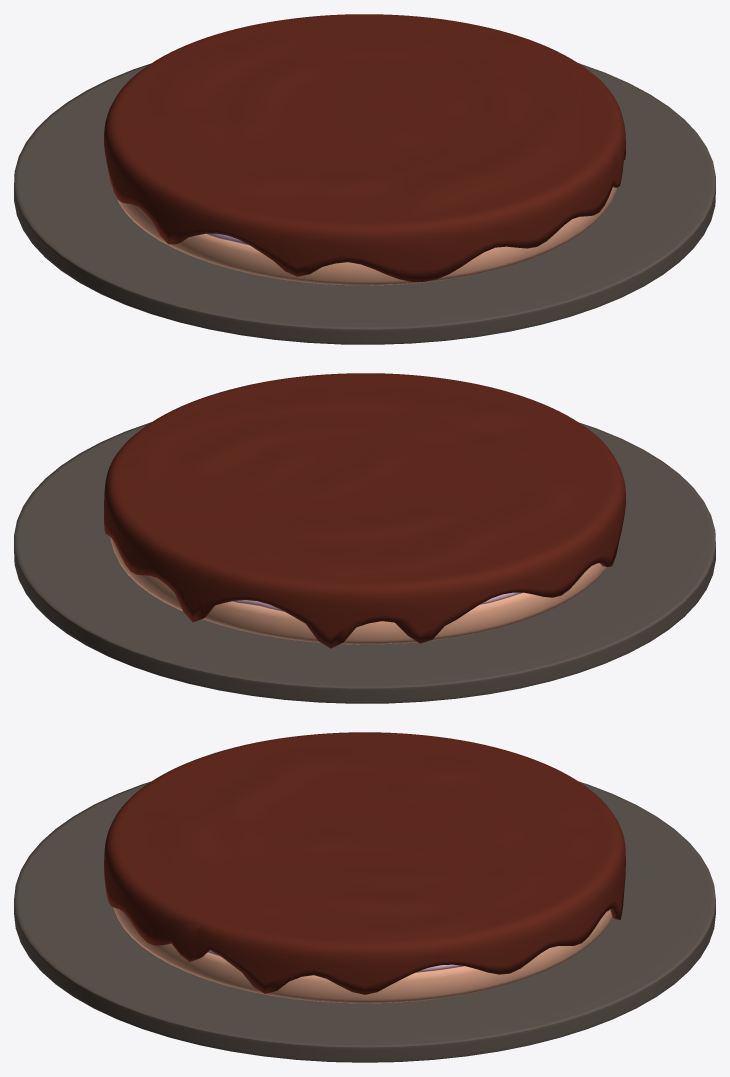
The model's file is 1LayerRoundCake.fbx.
3 renders of one model, top to bottom at view 1: azimuth 30°, elevation 25°; view 2: azimuth 150°, elevation 25°; view 3: azimuth 270°, elevation 25°, orthographic.
Parts seen in each view (by area): view 1: Cylinder.006, Cylinder.001, Cylinder; view 2: Cylinder.006, Cylinder.001, Cylinder; view 3: Cylinder.006, Cylinder.001, Cylinder.
Part boxes in pixels (x1=…): Cylinder.006: x1=104, y1=14, x2=625, y2=281; Cylinder.001: x1=14, y1=63, x2=715, y2=344; Cylinder: x1=112, y1=187, x2=617, y2=285; Cylinder.006: x1=104, y1=373, x2=625, y2=648; Cylinder.001: x1=14, y1=422, x2=715, y2=703; Cylinder: x1=110, y1=537, x2=607, y2=644; Cylinder.006: x1=104, y1=732, x2=625, y2=994; Cylinder.001: x1=14, y1=781, x2=715, y2=1062; Cylinder: x1=113, y1=907, x2=612, y2=1003.
Size of the model in its own units: 39.74 by 5.03 by 39.74.
